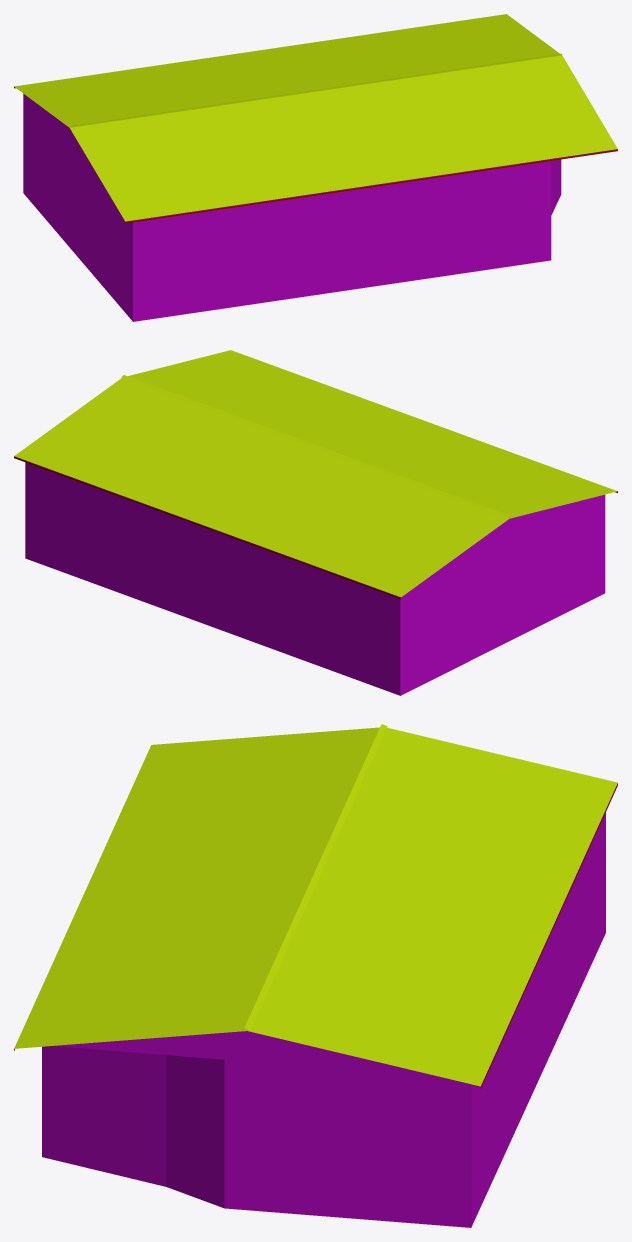
The model's file is ces_4.glb.
3 views of the same model, one above another, from view 1: azimuth 30°, elevation 25°; view 2: azimuth 150°, elevation 25°; view 3: azimuth 270°, elevation 25° (orthographic). The views are drawn at different scales.
Visible parts, largest first — view 1: ces_4; view 2: ces_4; view 3: ces_4.
Boxes of the visible parts, left/top/right/bottom form: ces_4: left=14, top=14, right=617, bottom=321; ces_4: left=14, top=350, right=617, bottom=695; ces_4: left=14, top=724, right=617, bottom=1227.
Bounding box in the file's own units: 31.31 × 7.97 × 23.4.
